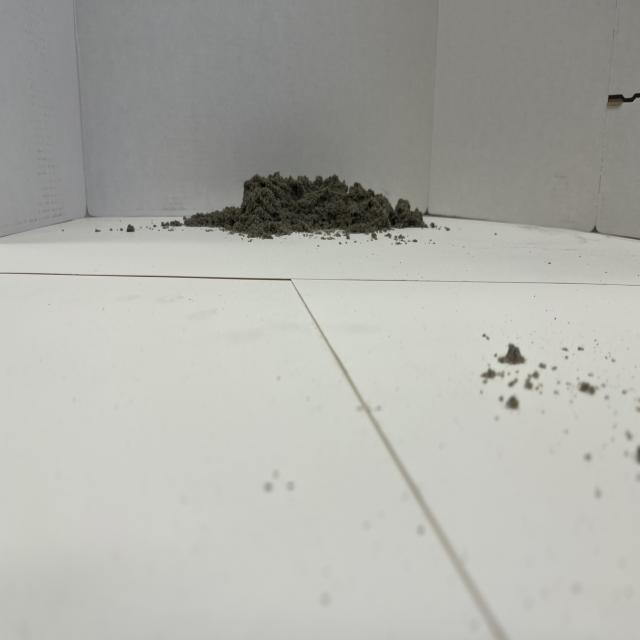sand: (200, 158, 415, 248)
